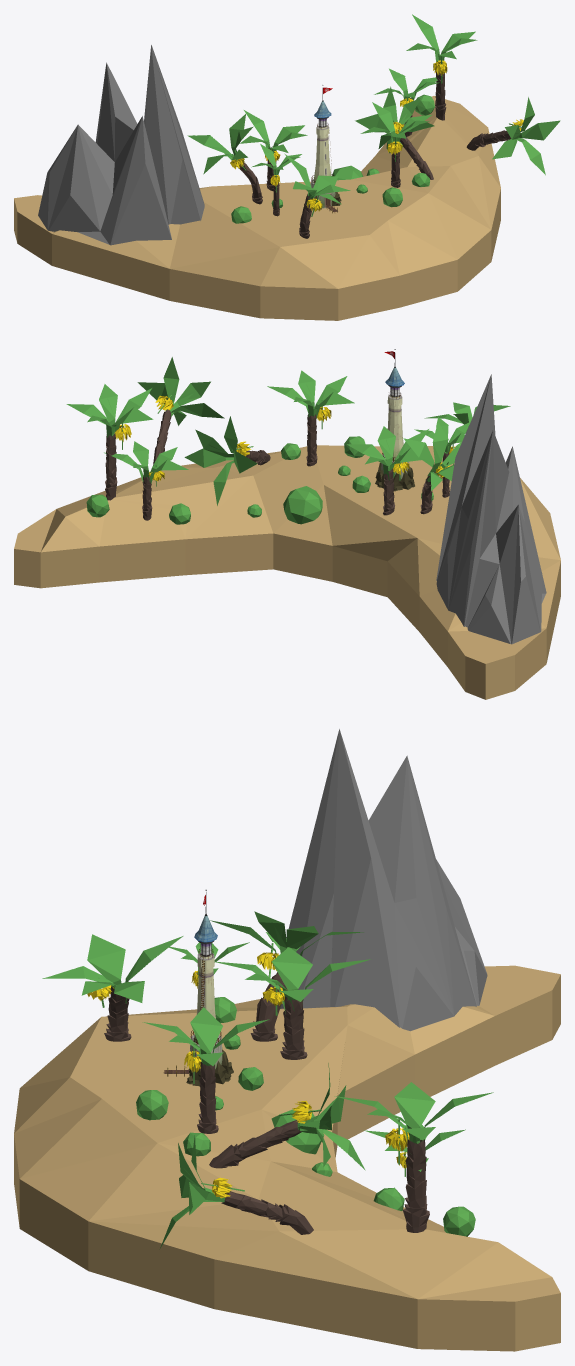
Rendered from inselvr1_09.12.fbx.
3 renders of one model, top to bottom at view 1: azimuth 30°, elevation 25°; view 2: azimuth 150°, elevation 25°; view 3: azimuth 270°, elevation 25°, orthographic. The views are drawn at different scales.
Visible parts, largest first — view 1: Insel, Berge, AgeOfSails_Lighthouse_Low, Stamm_3, Extrudieren_4, Stamm_7, Stamm_20; view 2: Insel, Berge, AgeOfSails_Lighthouse_Low, Busch_5, Stamm_7, Stamm_22, Extrudieren_6, Extrudieren, Extrudieren_2_17, Extrudieren_10, Extrudieren_1, Extrudieren_12 (+4 smaller); view 3: Insel, Berge, AgeOfSails_Lighthouse_Low, Stamm_7, Stamm_20, Stamm_3, Extrudieren_4_9, Stamm_15, Stamm_22, Extrudieren_4_7, Extrudieren_4_13, Stamm_13 (+5 smaller).
Part boxes in pixels (x1,y1,x2,y2): Insel: (14, 96, 500, 320); Berge: (38, 45, 204, 245); AgeOfSails_Lighthouse_Low: (304, 85, 341, 213); Stamm_3: (466, 130, 511, 150); Extrudieren_4: (519, 120, 560, 140); Stamm_7: (435, 61, 446, 120); Stamm_20: (400, 136, 433, 179); Insel: (14, 445, 560, 699); Berge: (436, 374, 546, 644); AgeOfSails_Lighthouse_Low: (375, 349, 414, 491); Busch_5: (283, 486, 322, 524); Stamm_7: (105, 433, 117, 500); Stamm_22: (306, 414, 317, 466); Extrudieren_6: (99, 384, 117, 434); Extrudieren: (171, 381, 210, 414); Extrudieren_2_17: (184, 448, 233, 467); Extrudieren_10: (427, 422, 448, 476); Extrudieren_1: (163, 357, 179, 412); Extrudieren_12: (377, 426, 395, 469); Insel: (14, 965, 560, 1351); Berge: (280, 729, 487, 1031); AgeOfSails_Lighthouse_Low: (163, 889, 233, 1086); Stamm_7: (403, 1139, 429, 1232); Stamm_20: (209, 1120, 301, 1168); Stamm_3: (221, 1191, 313, 1234); Extrudieren_4_9: (87, 934, 125, 986); Stamm_15: (280, 996, 307, 1059); Stamm_22: (197, 1061, 218, 1133); Extrudieren_4_7: (394, 1082, 435, 1143); Extrudieren_4_13: (271, 947, 312, 990); Stamm_13: (250, 972, 287, 1041).
Bounding box in the file's own units: 9750 × 4678 × 6707.
Materials: 7 (5 with a texture image).
